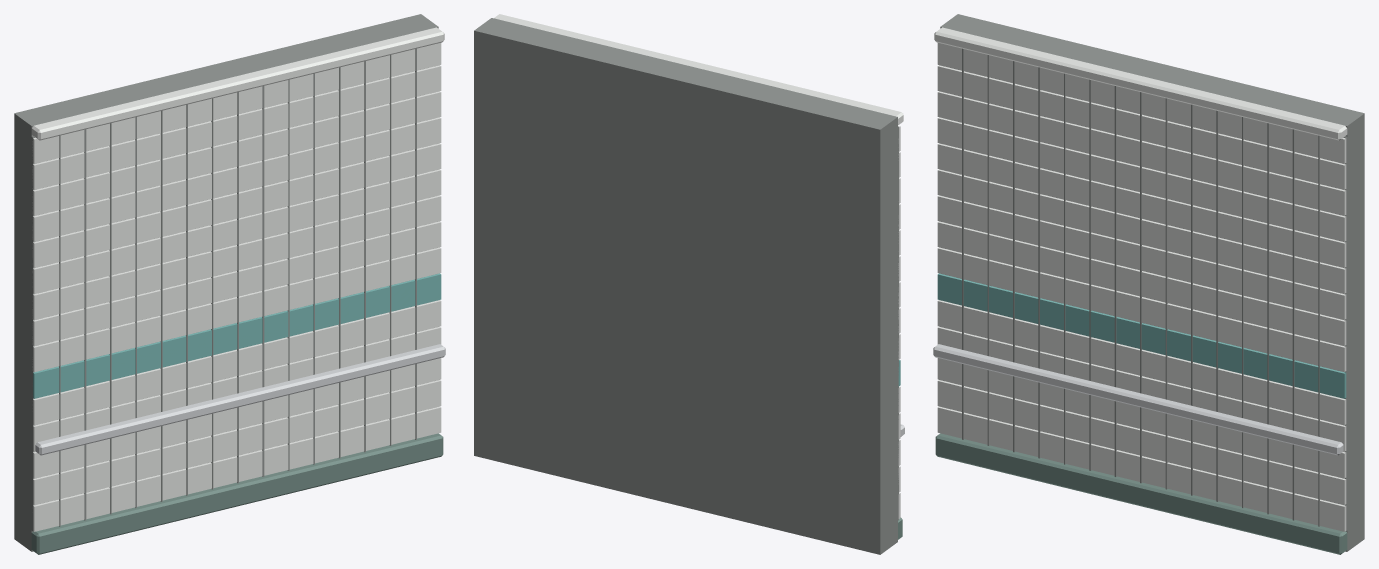
File: wall_hs_tile.glb
3 views of the same model, side by side, from view 1: azimuth 30°, elevation 25°; view 2: azimuth 150°, elevation 25°; view 3: azimuth 330°, elevation 25° (orthographic).
Visible parts, largest first — view 1: wall_hs_tile; view 2: wall_hs_tile; view 3: wall_hs_tile.
Boxes of the visible parts, left/top/right/bottom form: wall_hs_tile: left=14, top=14, right=445, bottom=554; wall_hs_tile: left=474, top=14, right=904, bottom=554; wall_hs_tile: left=933, top=14, right=1364, bottom=554.
Size of the model in its own units: 4 by 4 by 0.44.
